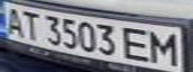0: (75, 19, 96, 54)
3: (93, 21, 121, 57), (39, 12, 63, 46)
5: (57, 16, 78, 51)
A: (0, 3, 27, 37)
E: (121, 26, 154, 63)
M: (145, 28, 184, 66)
T: (18, 8, 45, 42)
